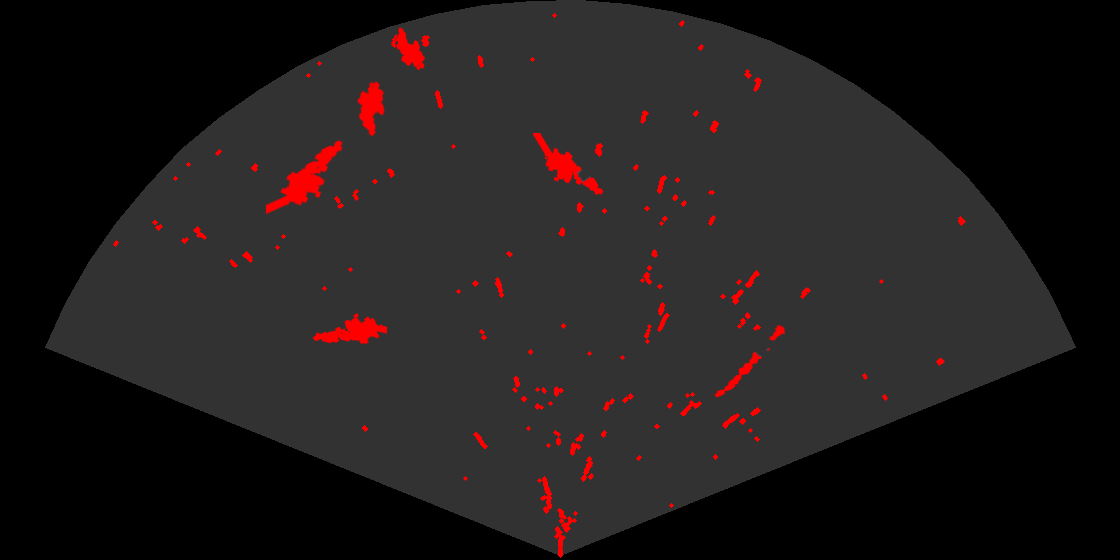AUV: (356, 80, 386, 138), (395, 26, 427, 72)
chain: (713, 323, 787, 399)
frogman: (266, 138, 344, 216), (533, 133, 605, 197), (311, 312, 387, 346)
